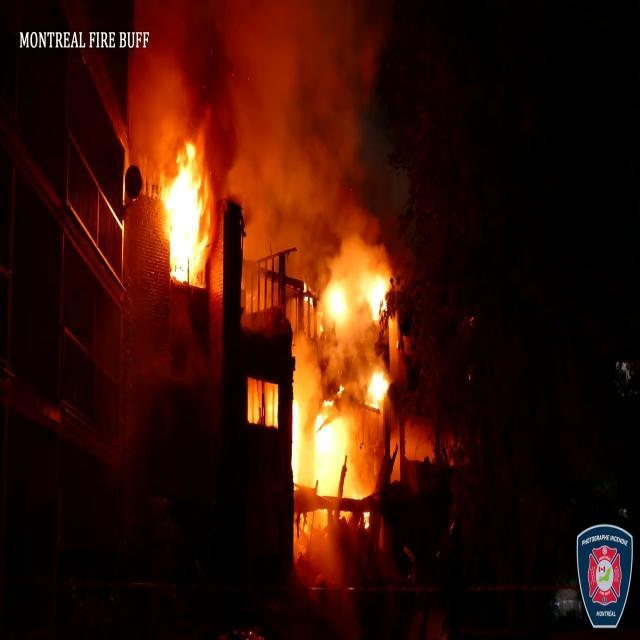Fire: (294, 244, 402, 522), (156, 138, 214, 288)
Smoke: (211, 2, 407, 232)
